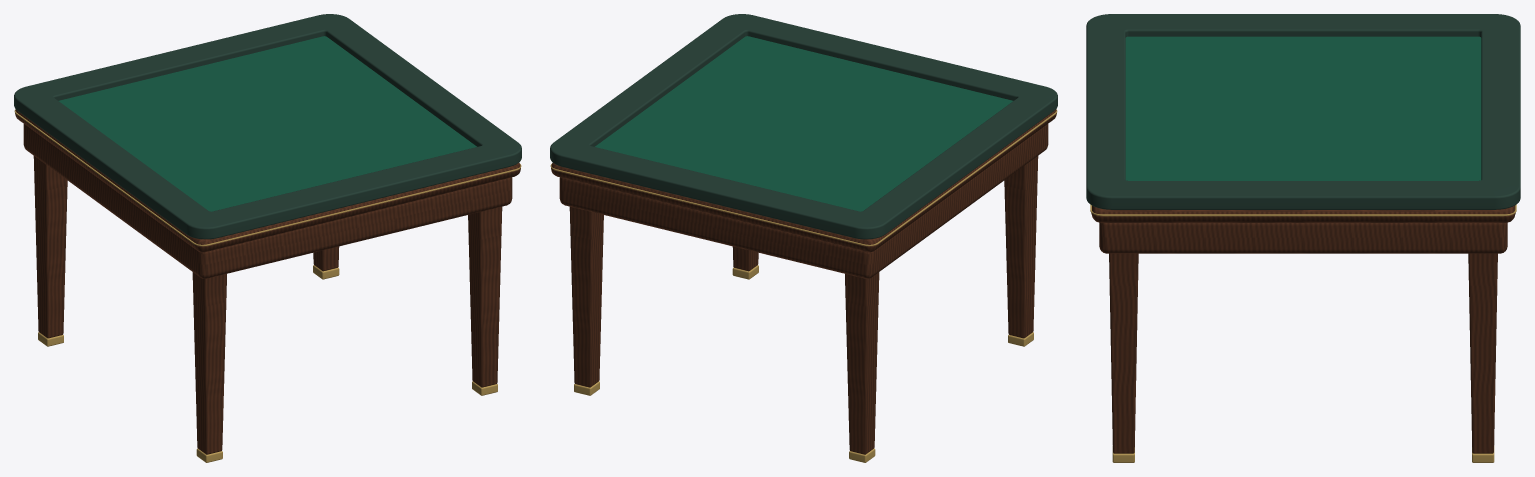
Rendered from mahjong-table.glb.
3 views of the same model, side by side, from view 1: azimuth 30°, elevation 25°; view 2: azimuth 150°, elevation 25°; view 3: azimuth 270°, elevation 25° (orthographic). The views are drawn at different scales.
Parts seen in each view (by area): view 1: Empty green felt, Padded perimeter, Walnut apron, Tapered walnut leg, Tapered walnut leg.002, Tapered walnut leg.001, Walnut tabletop, Brass frame accent, Tapered walnut leg.003; view 2: Empty green felt, Padded perimeter, Walnut apron, Tapered walnut leg.001, Tapered walnut leg.003, Tapered walnut leg, Walnut tabletop, Brass frame accent, Tapered walnut leg.002; view 3: Empty green felt, Padded perimeter, Walnut apron, Tapered walnut leg.002, Tapered walnut leg.003, Walnut tabletop, Brass frame accent.
Part boxes in pixels (<box>): Empty green felt: <box>59,36,476,211</box>; Padded perimeter: <box>14,14,521,239</box>; Walnut apron: <box>23,124,512,278</box>; Tapered walnut leg: <box>192,272,226,454</box>; Tapered walnut leg.002: <box>468,206,502,387</box>; Tapered walnut leg.001: <box>33,156,67,338</box>; Walnut tabletop: <box>15,109,520,252</box>; Brass frame accent: <box>14,109,521,246</box>; Tapered walnut leg.003: <box>313,246,339,271</box>; Empty green felt: <box>595,36,1012,211</box>; Padded perimeter: <box>550,14,1057,239</box>; Walnut apron: <box>559,124,1048,278</box>; Tapered walnut leg.001: <box>845,272,879,454</box>; Tapered walnut leg.003: <box>569,206,603,387</box>; Tapered walnut leg: <box>1004,156,1038,338</box>; Walnut tabletop: <box>551,109,1056,252</box>; Brass frame accent: <box>550,109,1057,246</box>; Tapered walnut leg.002: <box>732,246,758,271</box>; Empty green felt: <box>1125,36,1481,180</box>; Padded perimeter: <box>1086,14,1520,209</box>; Walnut apron: <box>1099,222,1507,253</box>; Tapered walnut leg.002: <box>1109,253,1138,453</box>; Tapered walnut leg.003: <box>1468,253,1497,453</box>; Walnut tabletop: <box>1091,205,1515,222</box>; Brass frame accent: <box>1090,204,1516,216</box>.
Bounding box in the file's own units: 1.1 × 0.776 × 1.1.
Materials: 4 (1 with a texture image).
